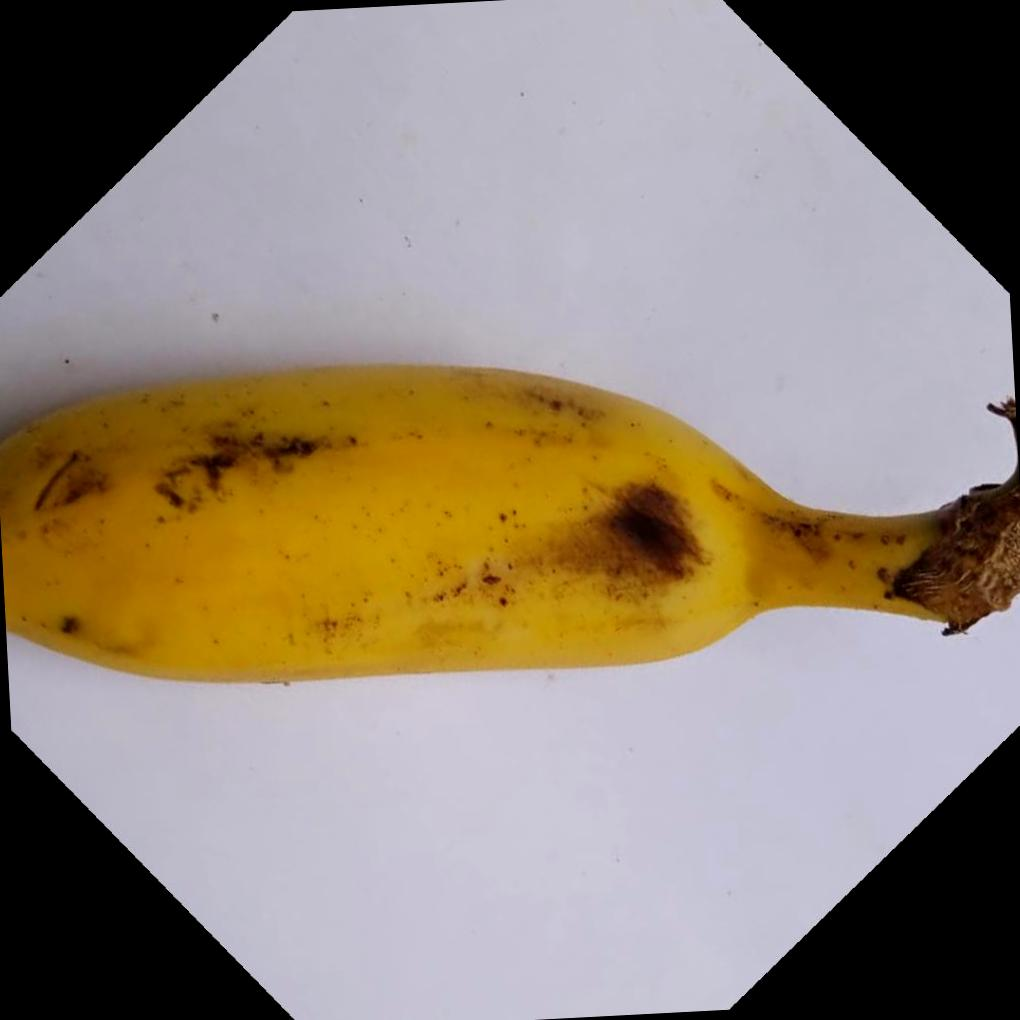Banana Ripe: (0, 305, 1020, 923)
